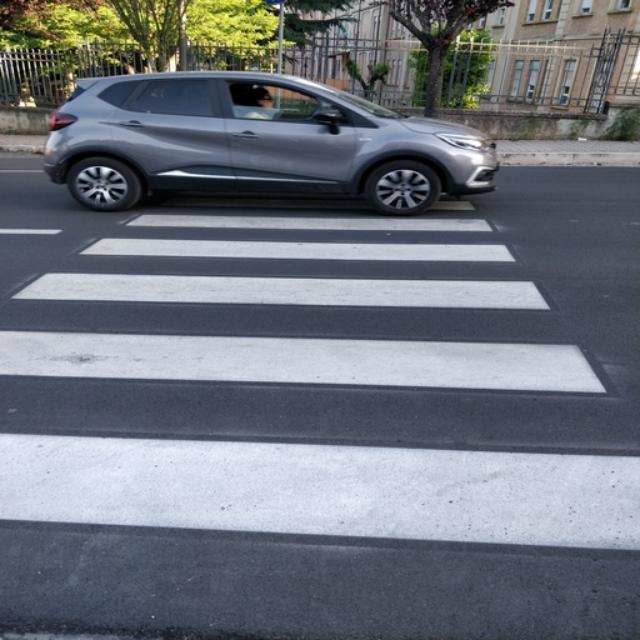sidewalk: (0, 192, 640, 551)
